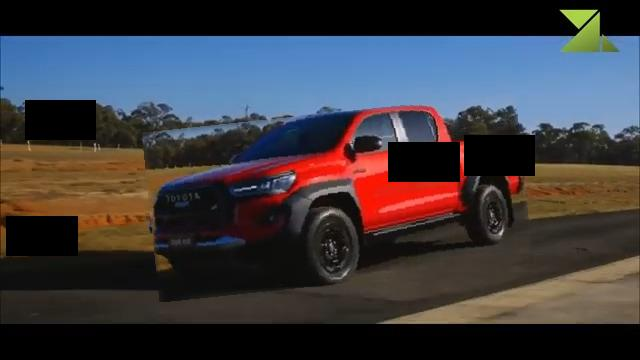MIL_HMMWV: (147, 103, 530, 292)
